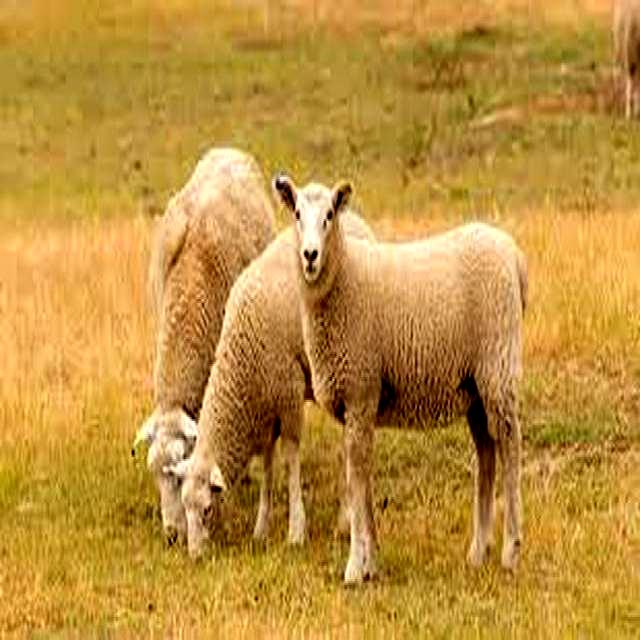sheep: (272, 177, 531, 587)
